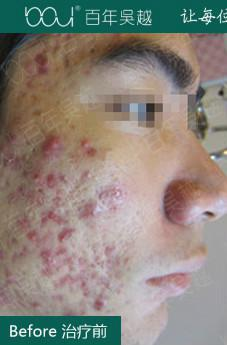fore: (108, 189, 138, 225), (61, 256, 85, 277), (91, 294, 116, 314), (25, 64, 51, 83), (38, 135, 61, 155), (75, 275, 101, 292), (67, 184, 92, 200), (4, 181, 22, 203), (27, 191, 45, 213), (80, 134, 99, 153), (49, 243, 68, 262), (23, 172, 47, 187), (99, 243, 119, 261), (93, 184, 113, 202), (60, 229, 82, 245), (22, 290, 38, 312), (109, 256, 128, 274), (28, 50, 50, 65), (99, 278, 118, 295), (107, 169, 123, 188), (47, 169, 63, 187), (34, 249, 50, 267), (53, 211, 73, 225), (25, 228, 41, 244), (15, 214, 31, 230), (49, 42, 66, 57), (87, 238, 102, 254), (117, 295, 132, 311), (39, 229, 57, 242), (78, 201, 97, 213), (78, 66, 94, 80), (52, 188, 64, 206), (76, 300, 90, 315), (60, 304, 76, 317), (67, 154, 80, 170), (4, 267, 17, 283), (32, 278, 45, 294), (1, 148, 12, 165), (3, 130, 17, 143), (18, 244, 31, 258), (10, 284, 21, 300), (49, 293, 66, 303), (50, 279, 63, 292), (15, 90, 28, 103), (37, 214, 49, 228), (11, 156, 25, 168), (100, 147, 112, 161), (0, 287, 8, 307), (64, 116, 75, 130), (8, 249, 19, 263), (79, 168, 91, 180), (28, 90, 41, 101), (63, 66, 74, 79), (89, 267, 100, 279), (132, 324, 143, 336), (59, 57, 72, 67), (33, 108, 44, 119), (8, 234, 19, 245), (85, 258, 96, 269), (47, 208, 55, 223), (89, 172, 99, 183), (0, 245, 6, 261), (120, 329, 129, 339), (22, 151, 30, 162), (131, 337, 142, 344)
